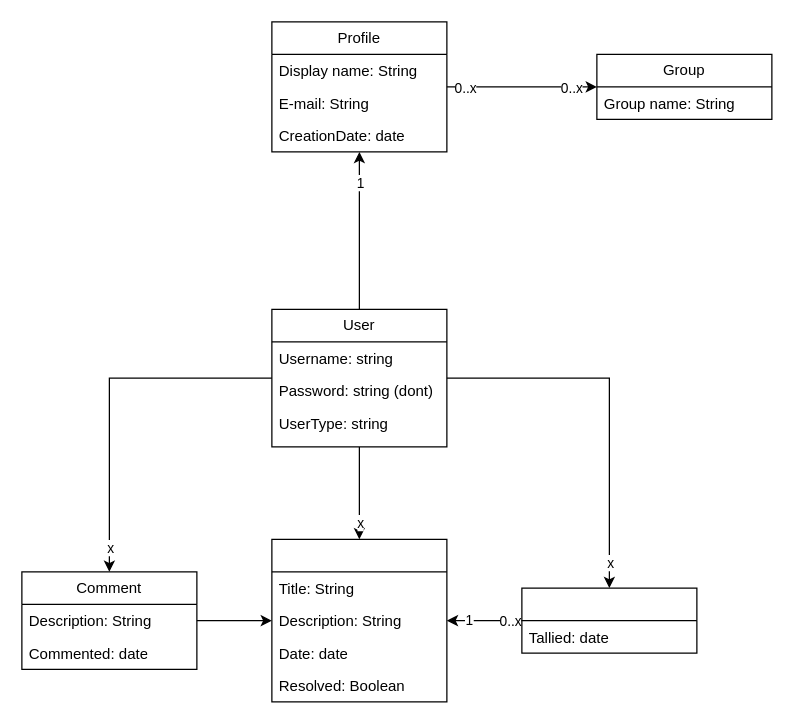
Some shapes in this 794 by 728 pixel diagram are drawn without their labels. The shapes that lost their labels are listed below. From the top down, each one's box as (x1, y1, x2, y2) in pixels, then its label:
(271, 538, 447, 702): Bug report
(521, 587, 697, 653): Tally
